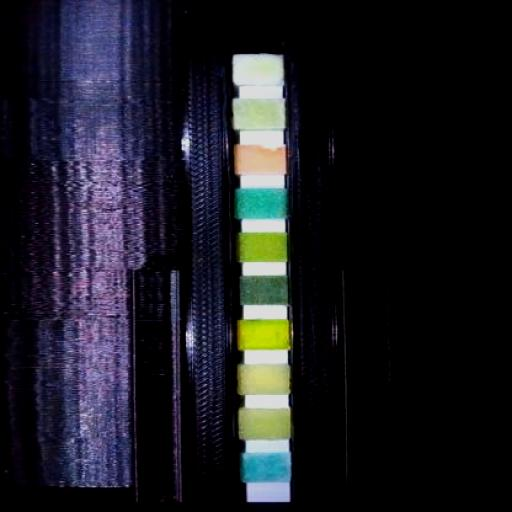Bilirubin: (240, 409, 290, 439)
Blood: (240, 276, 288, 304)
Glucose: (243, 454, 291, 482)
Ketone: (239, 365, 289, 393)
Leukocytes: (234, 56, 284, 85)
Nitrite: (234, 99, 285, 128)
Protein: (238, 189, 286, 217)
SpGravity: (238, 320, 290, 349)
Urobilinogen: (237, 144, 285, 174)
pH: (240, 234, 286, 260)
strip: (238, 54, 291, 502)
